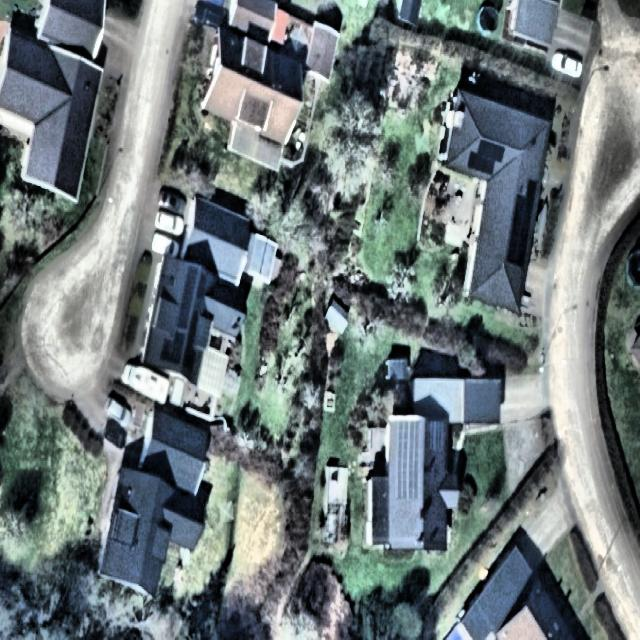roof_pv: (505, 177, 541, 265), (394, 419, 420, 504), (467, 138, 509, 181), (176, 261, 195, 327), (426, 415, 451, 460), (160, 328, 184, 365)
